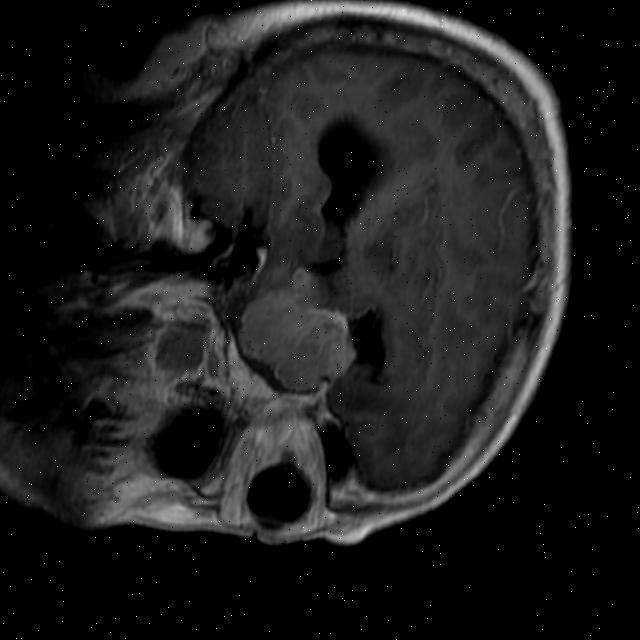Meningioma: (226, 252, 372, 407)
